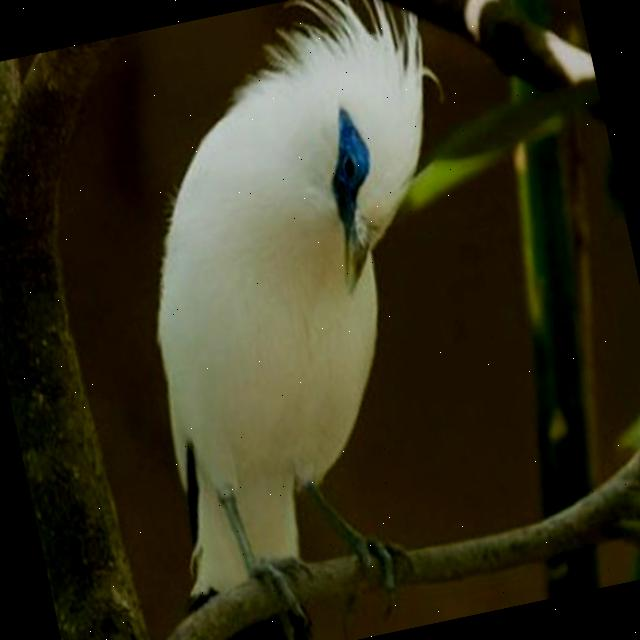Jalak Bali: (52, 0, 561, 640)
